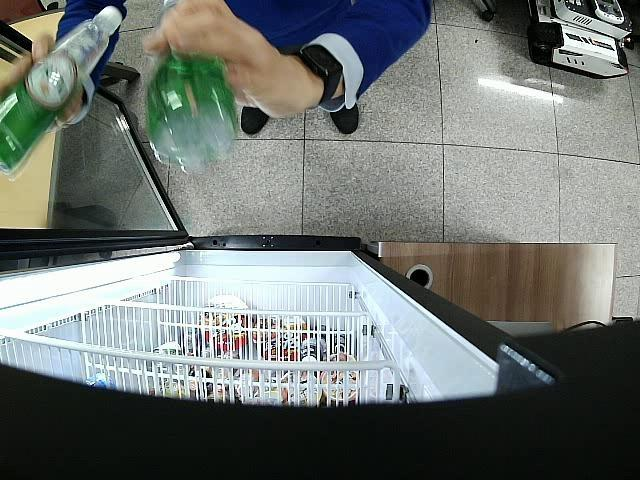18_trevi: (0, 6, 124, 174), (148, 0, 236, 174)
